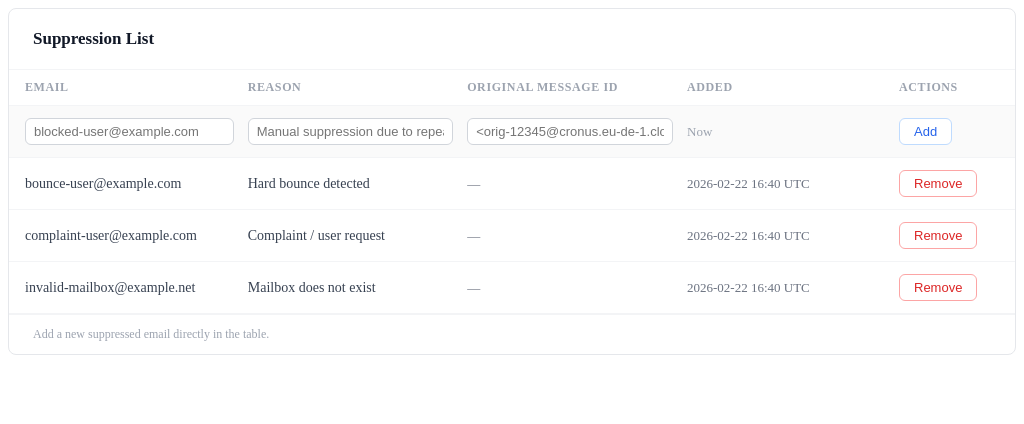
Test: SuppressionList › adds a row with reason and message id
Type "x@y.com" into the field with placeholder "blocked-user@example.com".
click(129, 132); type("x@y.com")  # box [25,118,234,145]
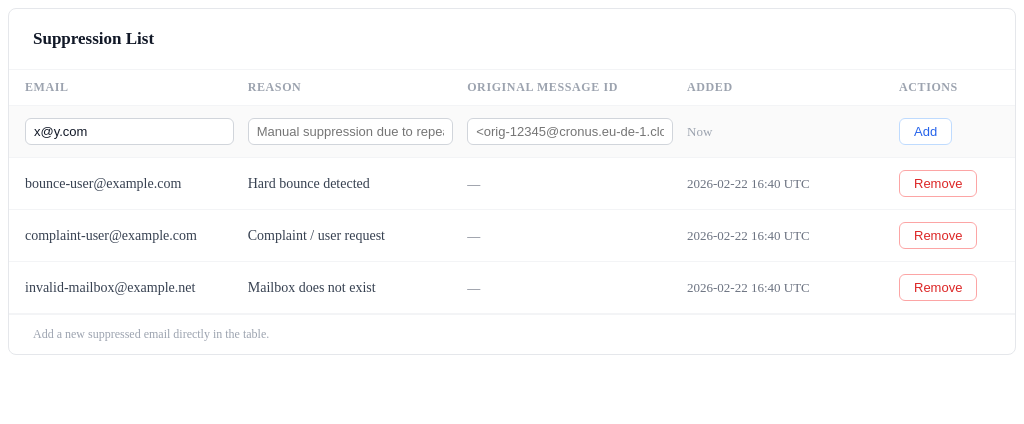
Type "test reason" into the field with placeholder "Manual suppression due to repeated hard…".
click(350, 132); type("test reason")  # box [248,118,453,145]
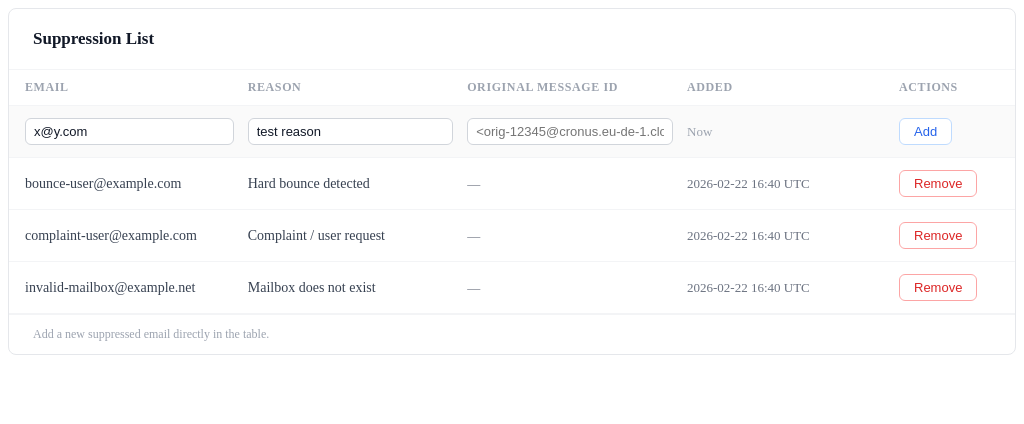
Click the button "Add".
click(926, 132)  # box [899,118,952,145]
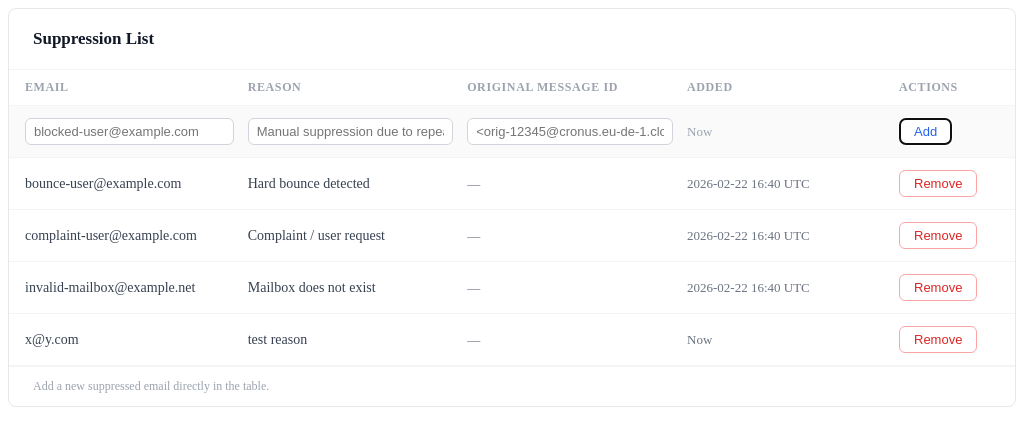
Now the text "x@y.com" is shown, box [9,314,232,366]
Now the text "test reason" is shown, box [232,314,451,366]
